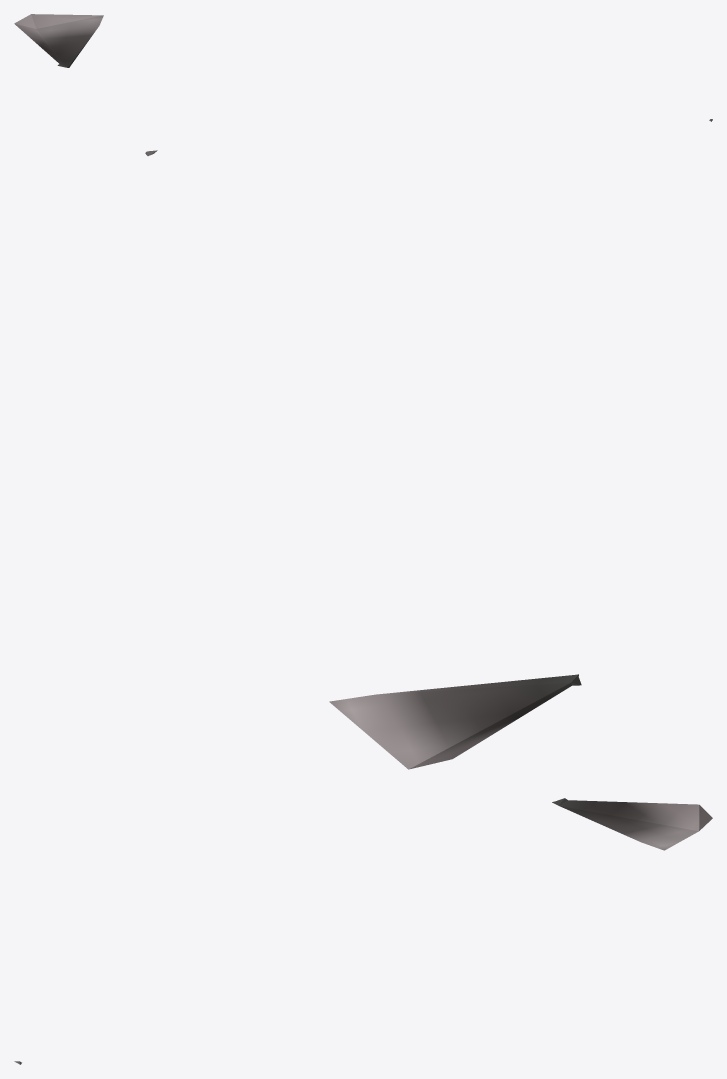
3 renders of one model, top to bottom at view 1: azimuth 30°, elevation 25°; view 2: azimuth 150°, elevation 25°; view 3: azimuth 270°, elevation 25°, orthographic. The views are drawn at different scales.
Bounding box in the file's own units: 0.3322 × 0.00776 × 0.3696.
Materials: 1 (1 with a texture image).
